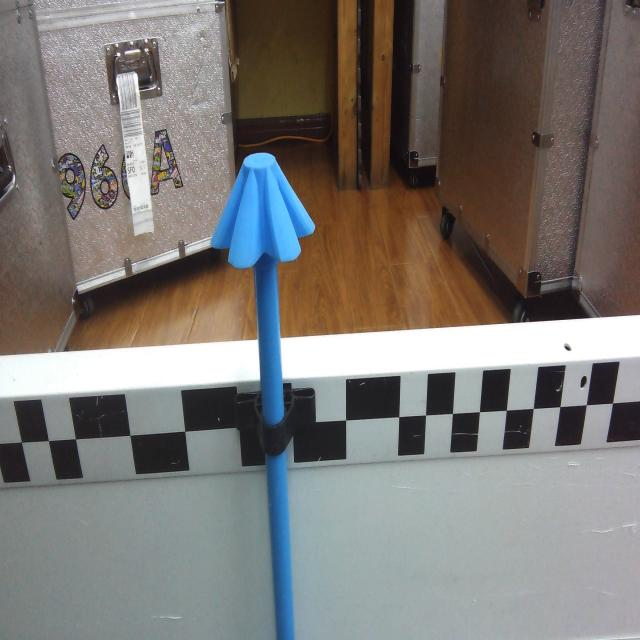zblue-Stake-Head: (210, 153, 316, 269)
